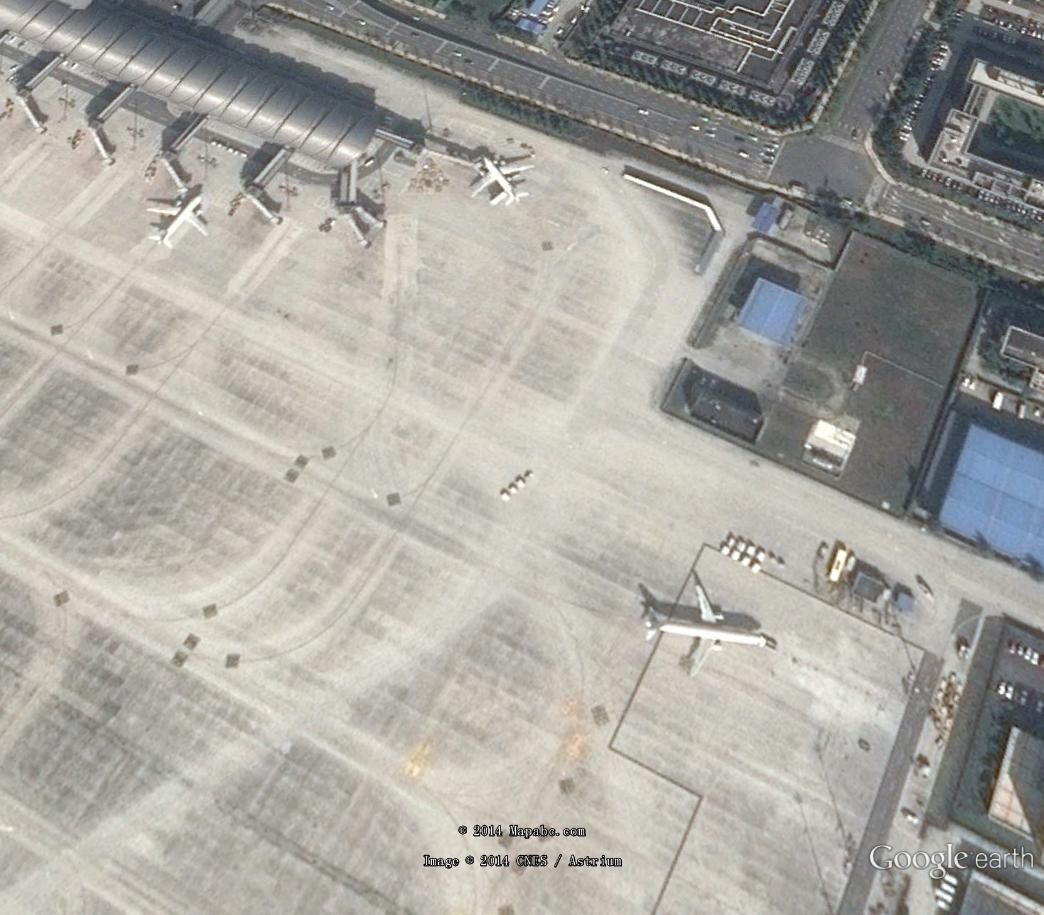aircraft: (639, 570, 774, 685), (468, 150, 540, 220), (139, 190, 216, 252)
